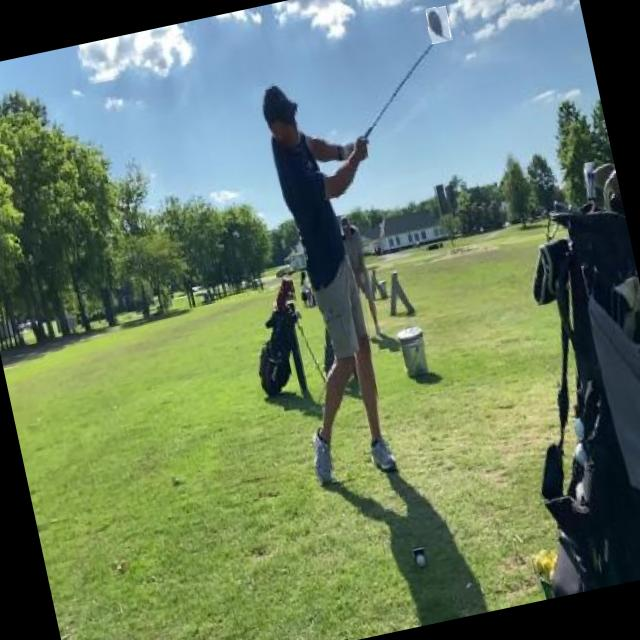club head: (424, 5, 452, 44)
